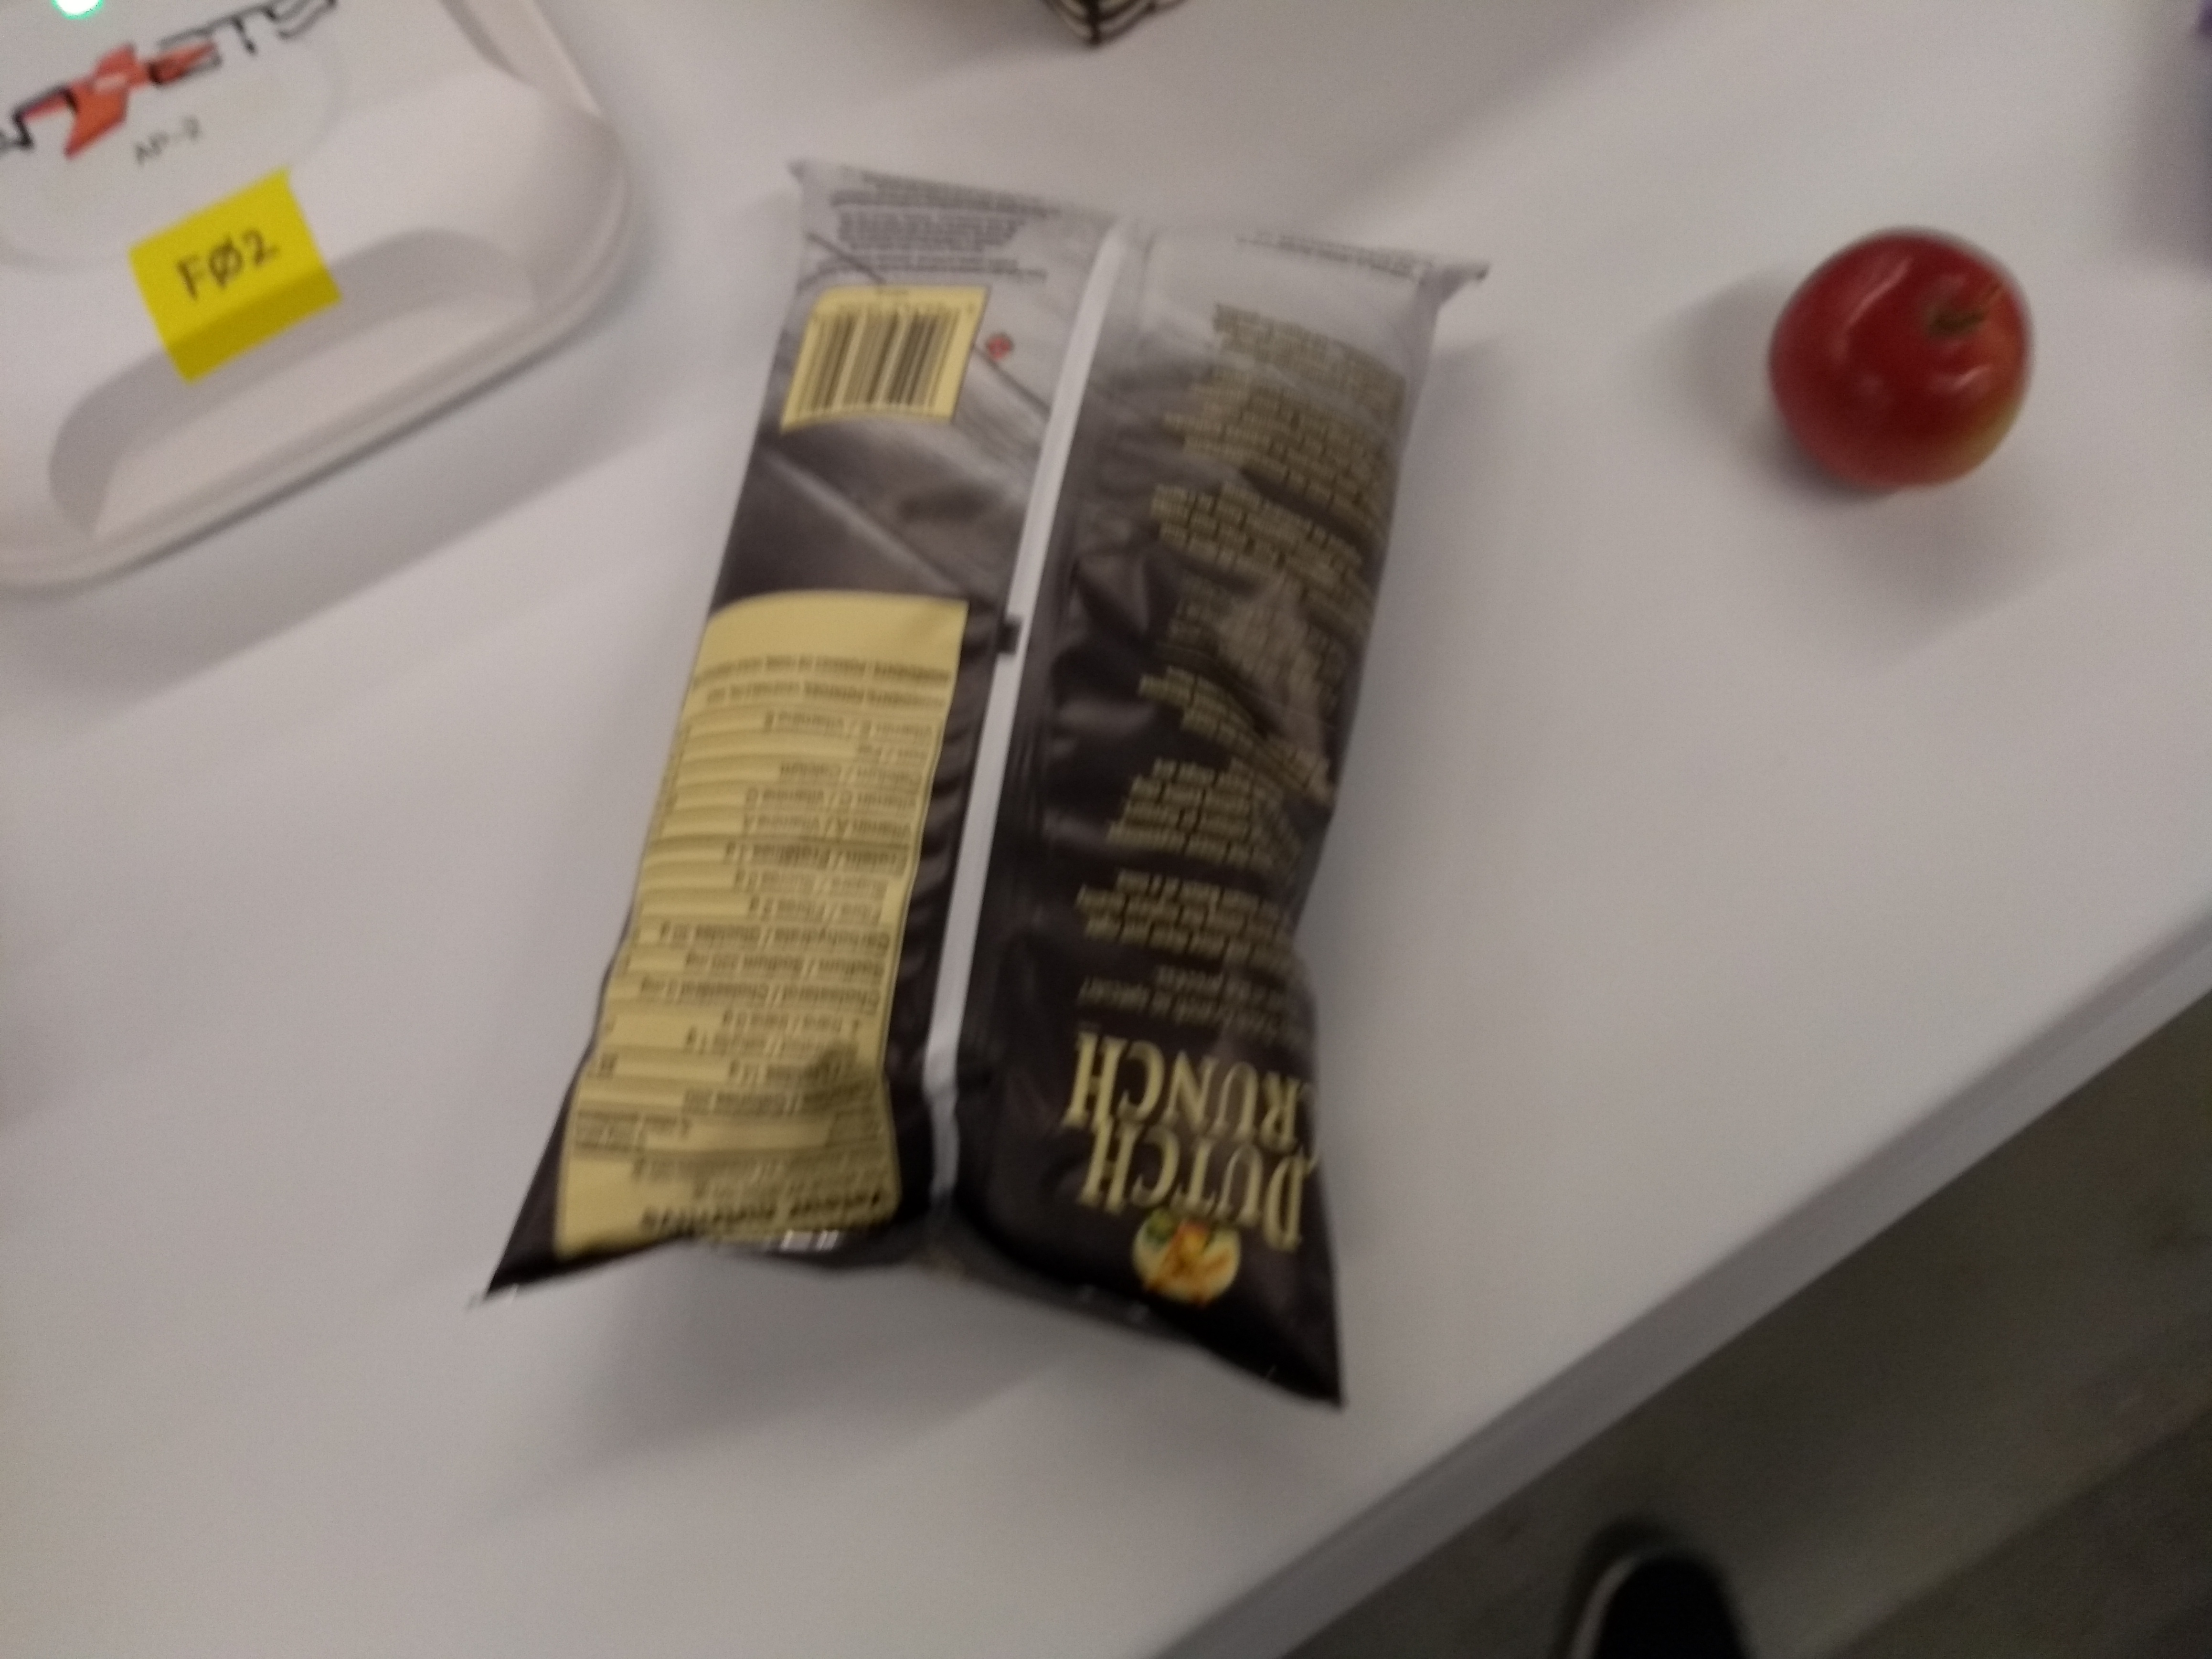apple: (1759, 223, 2043, 502)
potato_chips: (474, 132, 1514, 1422)
